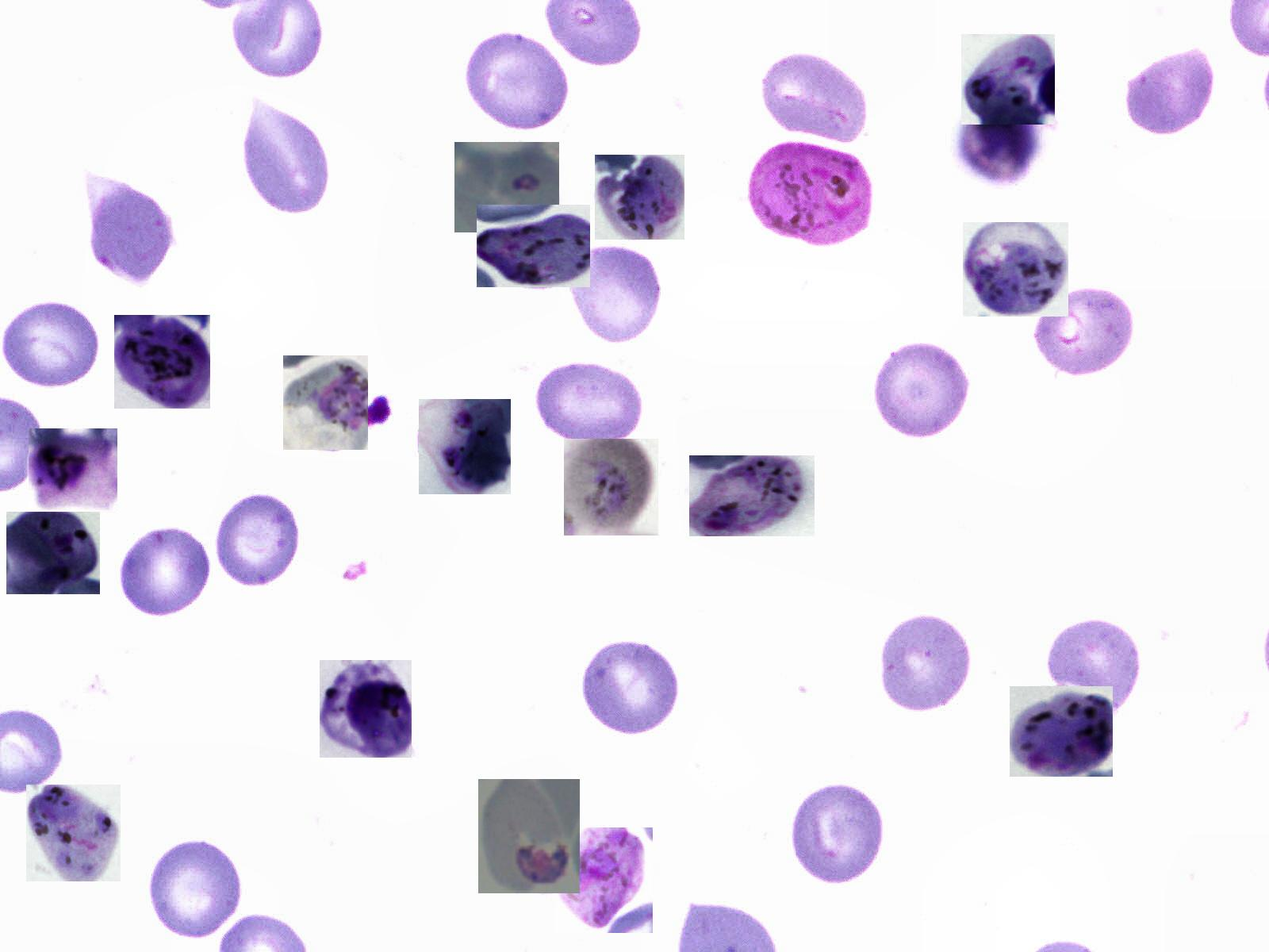Infected: (746, 136, 873, 247), (478, 779, 580, 893), (554, 827, 653, 933), (689, 455, 815, 536), (963, 222, 1068, 317), (454, 142, 559, 232), (1010, 686, 1113, 777), (477, 205, 590, 287), (26, 785, 121, 881), (564, 439, 658, 536), (115, 315, 210, 409), (320, 661, 412, 758), (419, 399, 511, 494), (961, 34, 1055, 125), (283, 355, 368, 450), (6, 512, 100, 594), (595, 155, 684, 240), (29, 428, 117, 513)
Uninfected: (464, 29, 573, 132), (788, 780, 893, 885), (576, 640, 684, 739), (874, 611, 974, 716), (871, 340, 975, 440), (759, 50, 869, 144), (532, 360, 649, 448), (564, 245, 666, 344), (149, 839, 247, 942), (213, 489, 310, 592), (1043, 618, 1146, 715), (240, 105, 328, 215), (0, 303, 107, 390), (85, 178, 173, 283), (1029, 290, 1134, 377), (117, 528, 213, 619), (1124, 47, 1217, 135)
